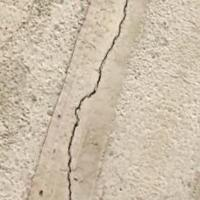crack: (66, 0, 136, 199)
